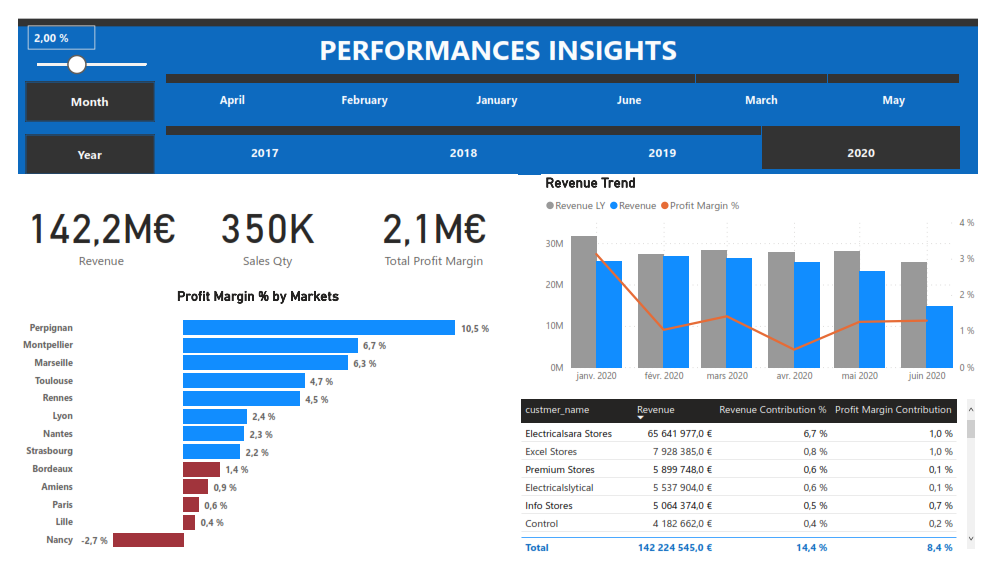

What the dashboard file says about the page in this screenshot:
{"tool":"powerbi","page":{"name":"Performance Insights","canvas":[1280,720],"ordinal":2},"visuals":[{"type":"textbox","box":[0,11.7,1280,196.7],"z":0},{"type":"card","fields":{"Values":["BaseMesure.Sales Qty"]},"box":[221.7,208.3,221.7,151.7],"z":1000},{"type":"barChart","title":"Profit Margin % by Markets","fields":{"Category":["sales markets.markets_name","sales markets.zone"],"Y":["BaseMesure.Profit Margin %"]},"box":[0,360,640,360],"z":2000},{"type":"slicer","fields":{"Values":["sales date.year"]},"box":[171.7,138.3,1108.3,70],"z":4000},{"type":"slicer","fields":{"Values":["sales date.month_name"]},"box":[171.7,68.3,1108.3,70],"z":5000},{"type":"shape","box":[0,0,1280,11.7],"z":6000},{"type":"shape","box":[10,85,171.7,53.3],"z":7000},{"type":"shape","box":[10,155,171.7,53.3],"z":8000},{"type":"tableEx","title":"Revenue by Costumers","fields":{"Values":["sales customers.custmer_name","BaseMesure.Revenue","BaseMesure.Revenue Contribution %","BaseMesure.Profit Margin Contribution"]},"box":[665,503.3,615,216.7],"z":9000},{"type":"lineClusteredColumnComboChart","title":"Revenue Trend","fields":{"Category":["sales date.cy_date"],"Y":["BaseMesure.Revenue LY","BaseMesure.Revenue"],"Y2":["BaseMesure.Profit Margin %"]},"box":[698.3,208.3,581.7,286.7],"z":11000},{"type":"card","fields":{"Values":["BaseMesure.Total Profit Margin"]},"box":[443.3,208.3,221.7,151.7],"z":12000},{"type":"card","fields":{"Values":["BaseMesure.Revenue"]},"box":[0,208.3,221.7,151.7],"z":13000},{"type":"slicer","fields":{"Values":["Profit Target.Profit Target"]},"box":[0,0,193.3,85],"z":13001}]}

Visuals, with their boxes in screenshot pixels (x1, y1, x2, y2), scaled from the page's 1280x720 canvas onto the 996x576 screenshot:
textbox: {"left": 0, "top": 9, "right": 995, "bottom": 167}
card - BaseMesure.Sales Qty: {"left": 173, "top": 167, "right": 345, "bottom": 288}
"Profit Margin % by Markets" barChart: {"left": 0, "top": 288, "right": 498, "bottom": 575}
slicer - sales date.year: {"left": 134, "top": 111, "right": 995, "bottom": 167}
slicer - sales date.month_name: {"left": 134, "top": 55, "right": 995, "bottom": 111}
shape: {"left": 0, "top": 0, "right": 995, "bottom": 9}
shape: {"left": 8, "top": 68, "right": 141, "bottom": 111}
shape: {"left": 8, "top": 124, "right": 141, "bottom": 167}
"Revenue by Costumers" tableEx: {"left": 517, "top": 403, "right": 995, "bottom": 575}
"Revenue Trend" lineClusteredColumnComboChart: {"left": 543, "top": 167, "right": 995, "bottom": 396}
card - BaseMesure.Total Profit Margin: {"left": 345, "top": 167, "right": 517, "bottom": 288}
card - BaseMesure.Revenue: {"left": 0, "top": 167, "right": 173, "bottom": 288}
slicer - Profit Target.Profit Target: {"left": 0, "top": 0, "right": 150, "bottom": 68}
